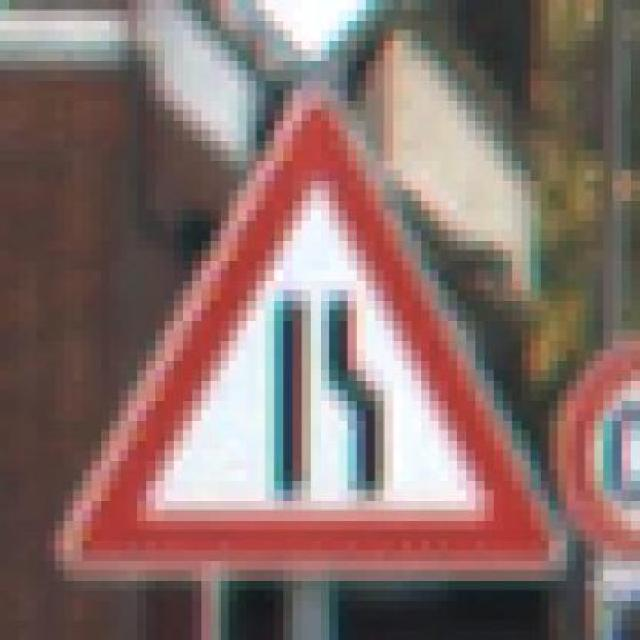-Road narrows on right: (54, 60, 586, 600)
